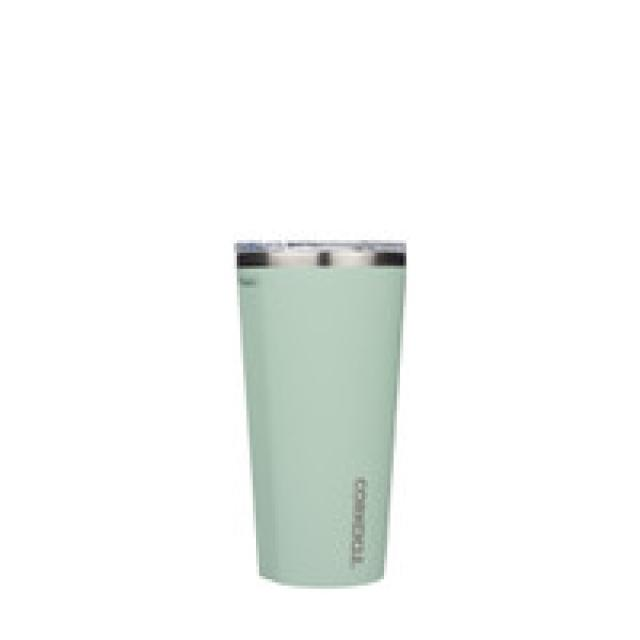bottle: (210, 172, 431, 595)
